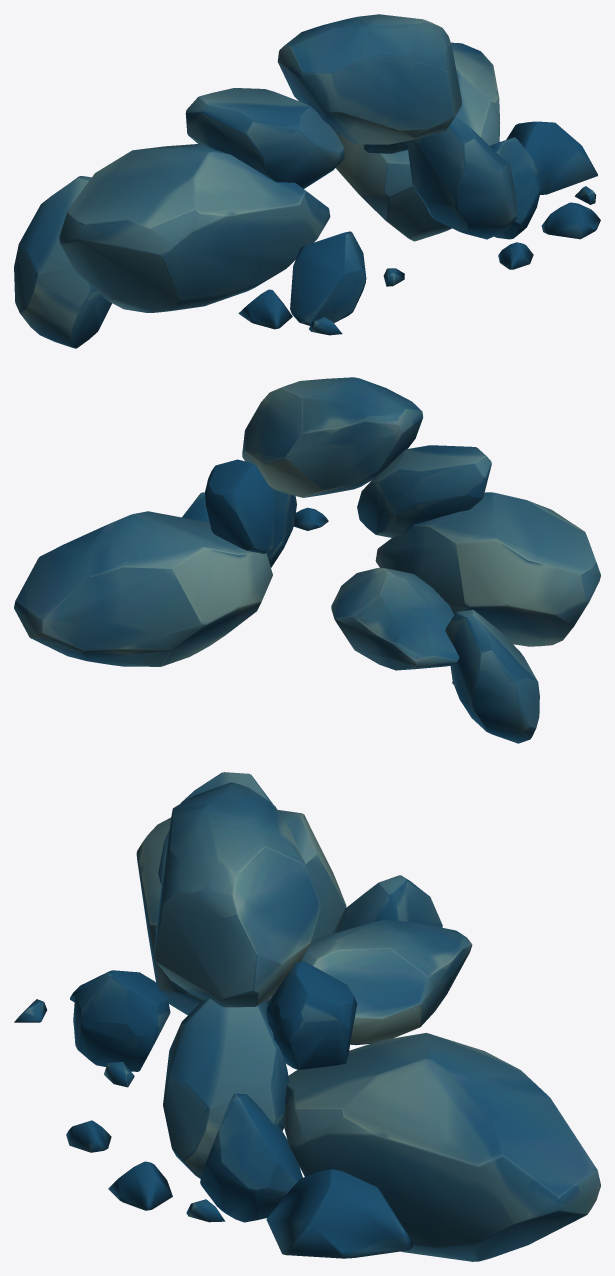
Rendered from rocksEntrance.fbx.
The picture shows the model from 3 angles, top to bottom: view 1: azimuth 30°, elevation 25°; view 2: azimuth 150°, elevation 25°; view 3: azimuth 270°, elevation 25°; orthographic projection. The views are drawn at different scales.
Visible parts, largest first — view 1: Rock.023; view 2: Rock.023; view 3: Rock.023.
Part boxes in pixels (box(x1,y1,x2,y2)): Rock.023: box(14, 14, 600, 348); Rock.023: box(14, 377, 600, 743); Rock.023: box(14, 772, 600, 1261).
Bounding box in the file's own units: 14.96 × 7.87 × 11.2.
1 material, 1 textured.
